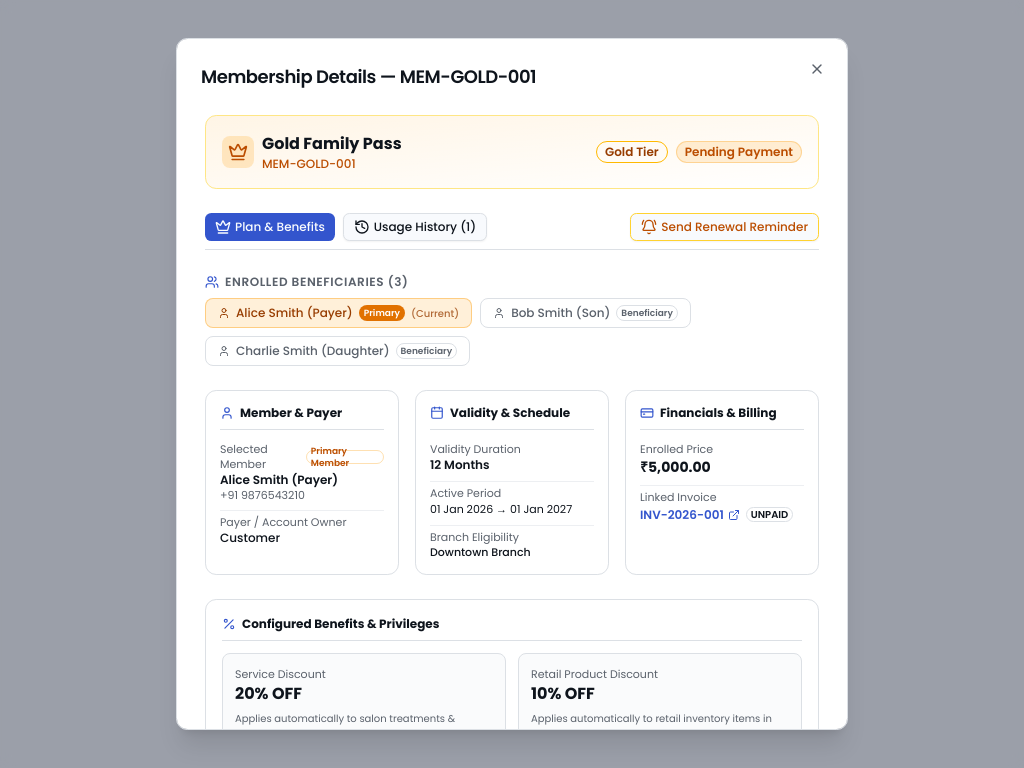
Test: CustomerMembershipDetailsModal - Multi-Beneficiary & Snapshot Verification › renders exact persisted enrollment terms, 3 beneficiaries roster, payer link and payment status
Expected: the heading "Gold Family Pass" is shown, top-left (262, 132), bottom-right (402, 156)
Expected: the text "MEM-GOLD-001" is shown, top-left (262, 155), bottom-right (356, 172)
Note: Switch to Beneficiary #3 (Charlie: 25% Svcs, VIP Lounge Access)
Step 1. Click the text "Charlie Smith (Daughter)" → (313, 351), box top-left (236, 343), bottom-right (390, 359)
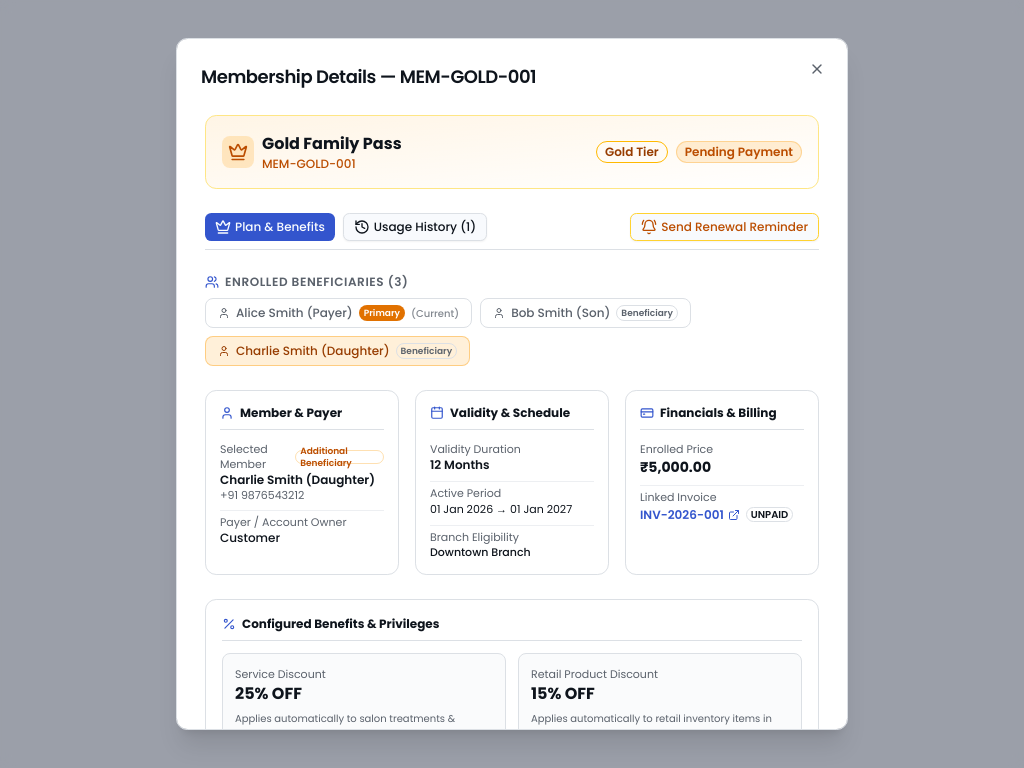
Expected: the text "25% OFF" is shown, top-left (235, 682), bottom-right (302, 705)
Expected: the text "Additional Beneficiary" is shown, top-left (295, 450), bottom-right (384, 464)
